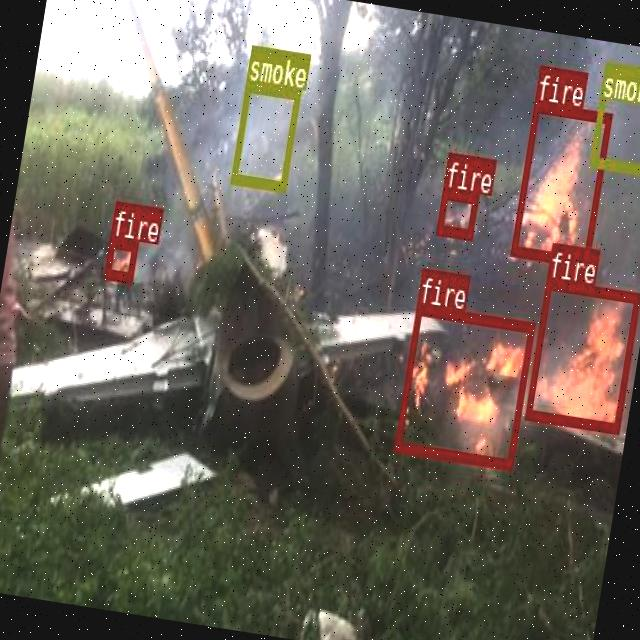fire: (392, 302, 534, 469), (524, 278, 640, 432), (510, 102, 612, 266), (436, 188, 478, 238), (104, 236, 138, 281)
smoke: (230, 81, 300, 189), (588, 61, 640, 174)
